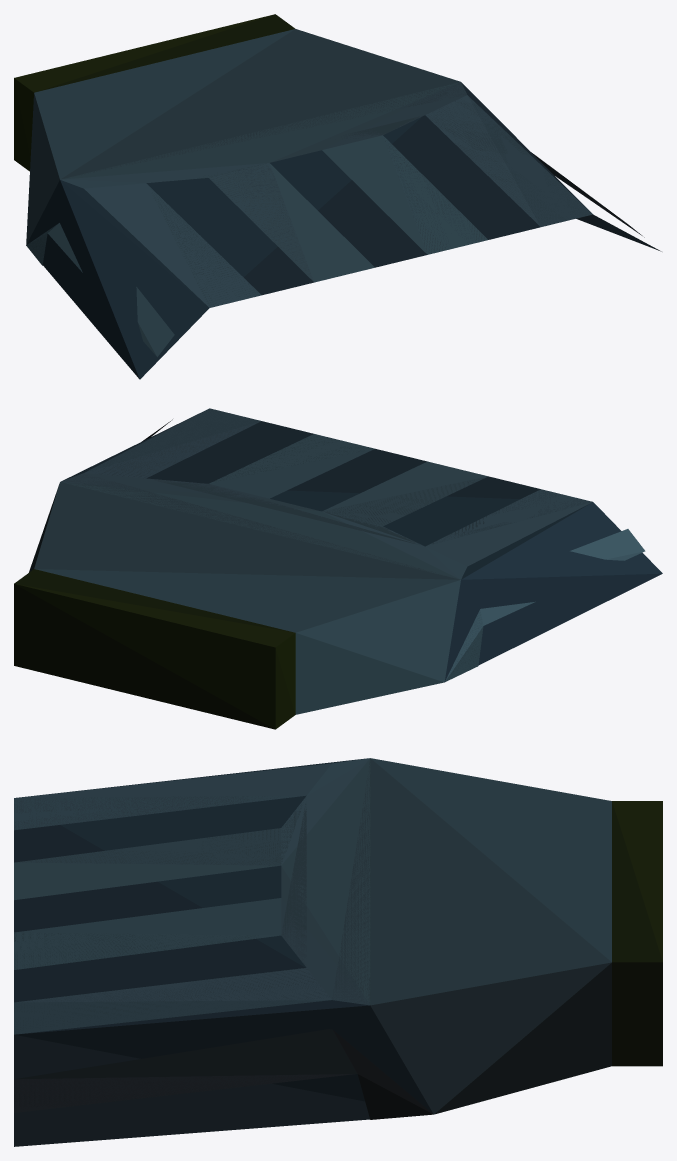
The model's file is runite-plateskirt.obj.
The picture shows the model from 3 angles, top to bottom: view 1: azimuth 30°, elevation 25°; view 2: azimuth 150°, elevation 25°; view 3: azimuth 270°, elevation 25°; orthographic projection. The views are drawn at different scales.
Parts seen in each view (by area): view 1: Item Rune plateskirt 2026-09-24_18-19-26; view 2: Item Rune plateskirt 2026-09-24_18-19-26; view 3: Item Rune plateskirt 2026-09-24_18-19-26.
Boxes of the visible parts, box(x1,y1,x2,y2) form: Item Rune plateskirt 2026-09-24_18-19-26: box(14, 14, 661, 379); Item Rune plateskirt 2026-09-24_18-19-26: box(14, 408, 662, 729); Item Rune plateskirt 2026-09-24_18-19-26: box(14, 758, 662, 1146).
Bounding box in the file's own units: 60 × 9 × 51.
